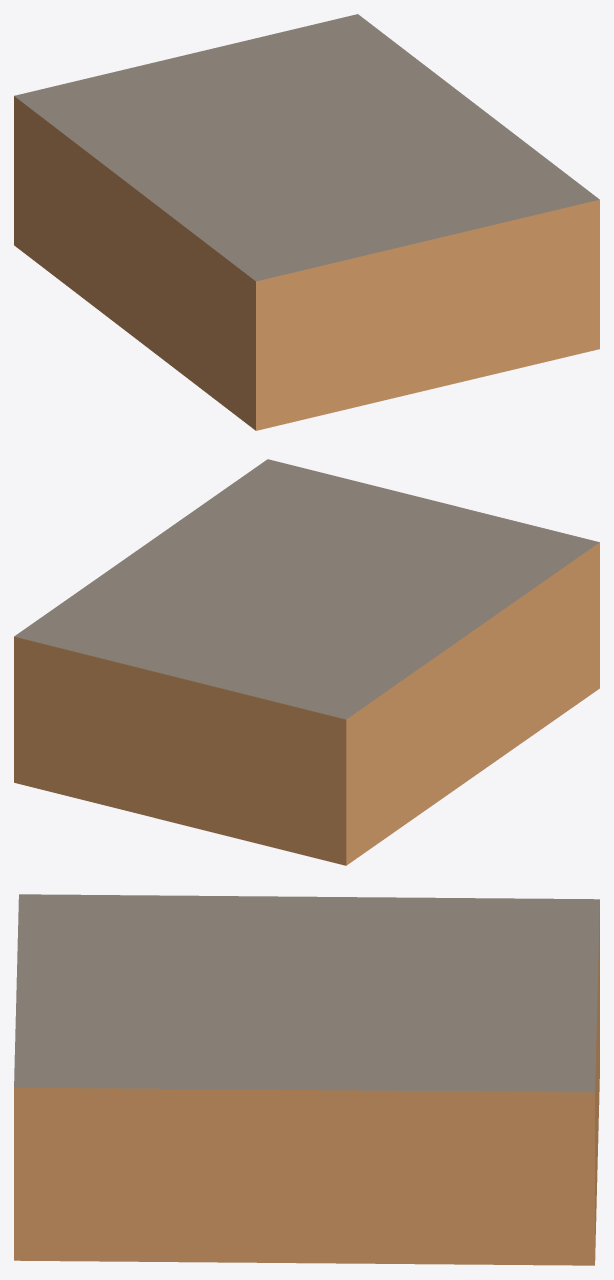
3 views of the same model, one above another, from view 1: azimuth 30°, elevation 25°; view 2: azimuth 150°, elevation 25°; view 3: azimuth 270°, elevation 25° (orthographic). The views are drawn at different scales.
Parts seen in each view (by area): view 1: element.017; view 2: element.017; view 3: element.017.
Boxes of the visible parts, bbox=[...] form: element.017: bbox=[14, 14, 599, 430]; element.017: bbox=[14, 459, 599, 865]; element.017: bbox=[14, 894, 599, 1265].
Size of the model in its own units: 10.51 by 4.28 by 13.14.
